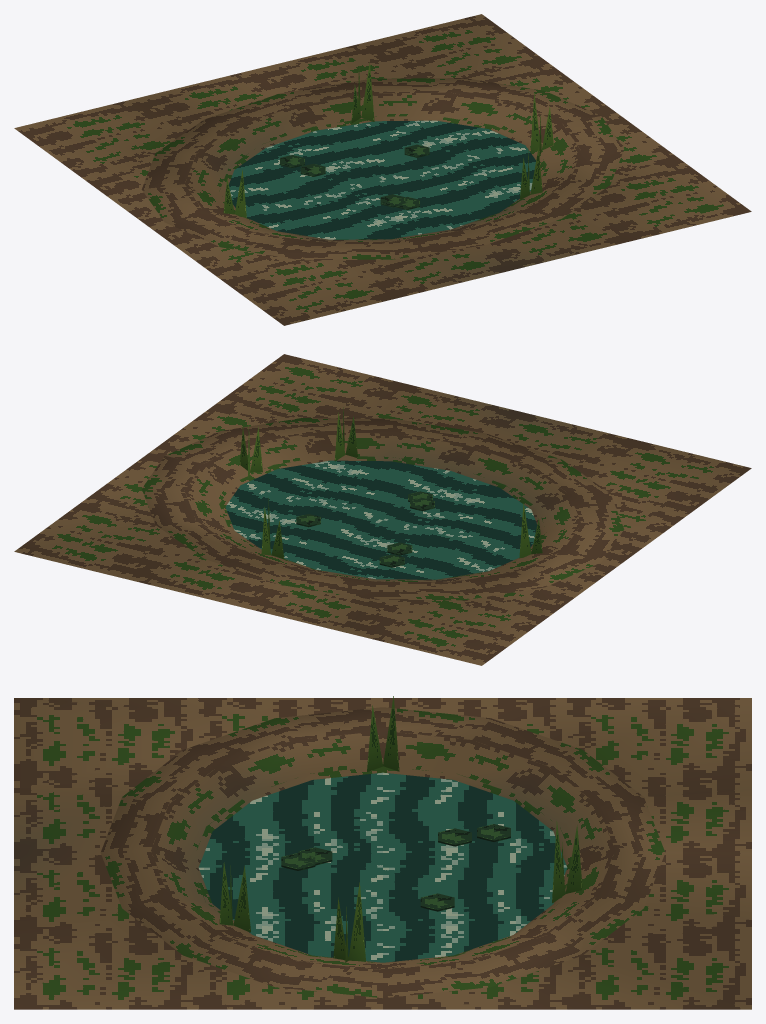
File: wild.oasis.glb
3 renders of one model, top to bottom at view 1: azimuth 30°, elevation 25°; view 2: azimuth 150°, elevation 25°; view 3: azimuth 270°, elevation 25°, orthographic. The views are drawn at different scales.
Parts seen in each view (by area): view 1: kit_shell_skirt, kit_bank, kit_shell_water, kit_shell_reeds, kit_pads; view 2: kit_shell_skirt, kit_bank, kit_shell_water, kit_shell_reeds, kit_pads; view 3: kit_shell_skirt, kit_bank, kit_shell_water, kit_shell_reeds, kit_pads.
Part boxes in pixels (x1,y1,x2,y2): kit_shell_skirt: (14, 14, 751, 325); kit_bank: (141, 78, 623, 260); kit_shell_water: (229, 120, 535, 239); kit_shell_reeds: (223, 62, 553, 218); kit_pads: (280, 144, 429, 209); kit_shell_skirt: (14, 354, 751, 665); kit_bank: (142, 418, 624, 600); kit_shell_water: (225, 460, 537, 579); kit_shell_reeds: (239, 407, 542, 558); kit_pads: (296, 491, 434, 567); kit_shell_skirt: (14, 698, 751, 1009); kit_bank: (100, 707, 665, 998); kit_shell_water: (198, 772, 567, 962); kit_shell_reeds: (219, 696, 582, 962); kit_pads: (281, 824, 510, 911).
Bounding box in the file's own units: 12 × 1.56 × 12.
4 materials, 4 textured.
